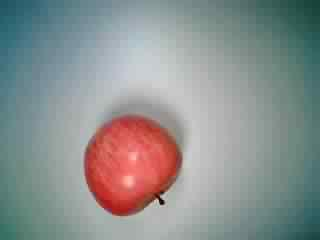apple: (79, 114, 183, 218)
